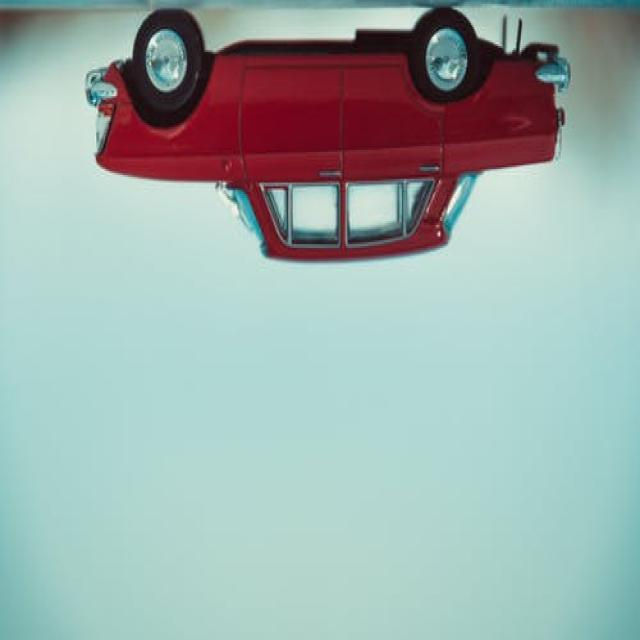Car: (84, 8, 571, 265)
